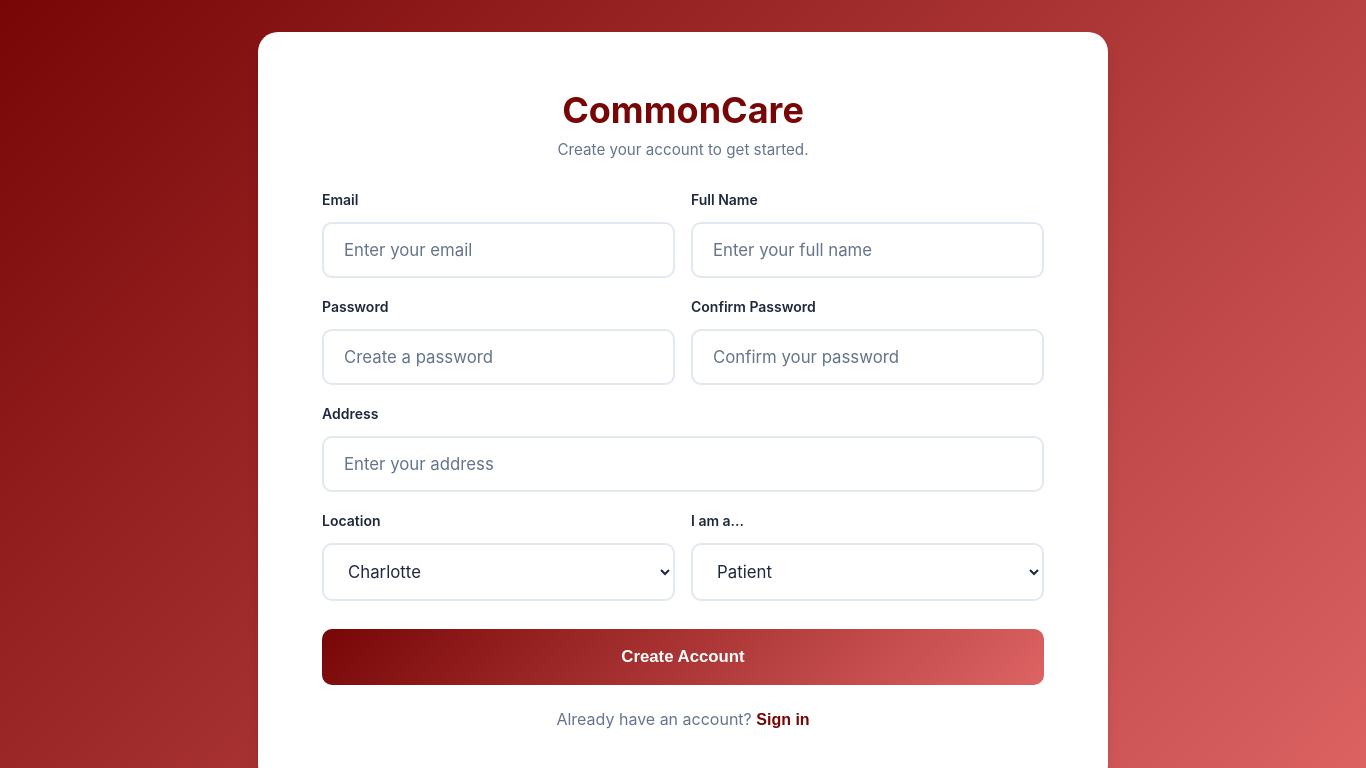
Test: Signup component › shows error when password is too short
Type "a@test.com" into the field labelled "Email" at (498, 250), box [322,222,675,278]
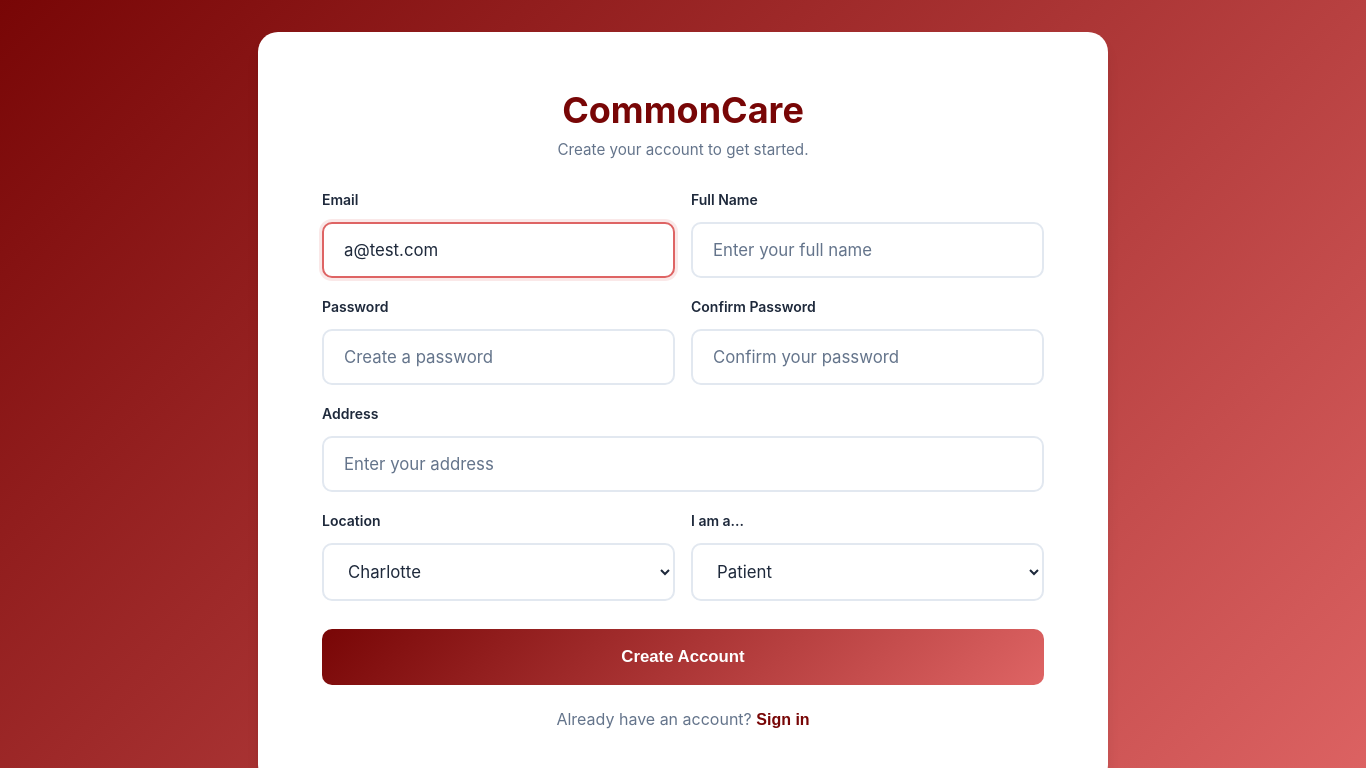
Type "A B" into the field labelled "Full Name" at (868, 250), box [691,222,1044,278]
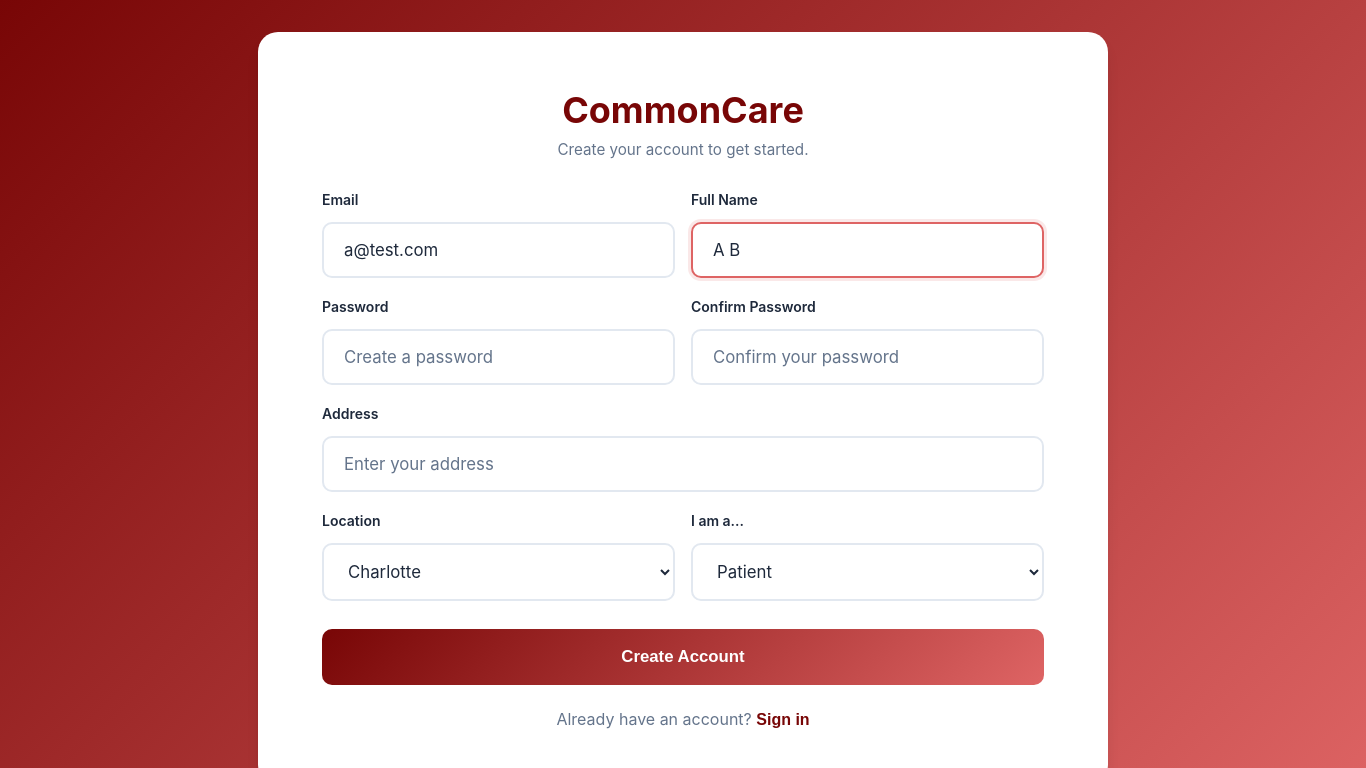
Type "abc" into the password field labelled "Password" at (498, 357), box [322,329,675,385]
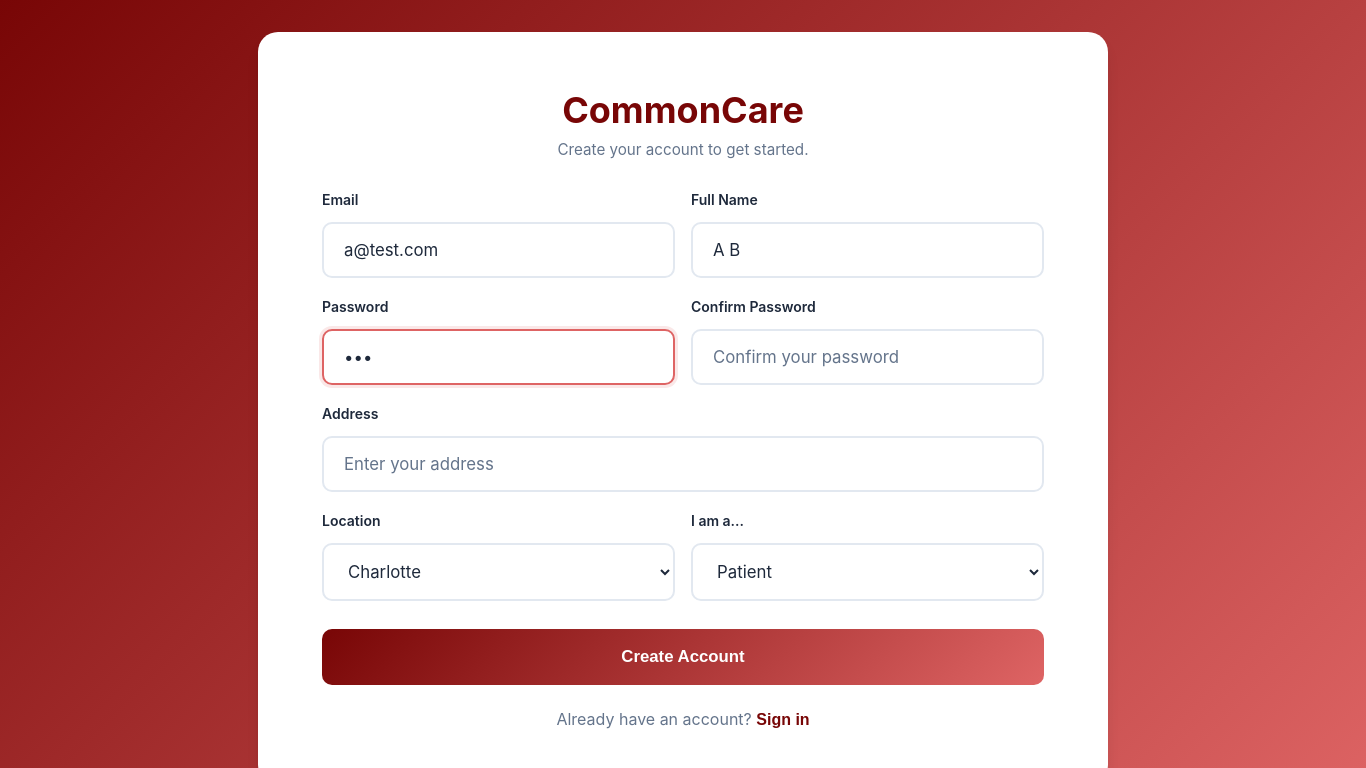
Type "abc" into the password field labelled "Confirm Password" at (868, 357), box [691,329,1044,385]
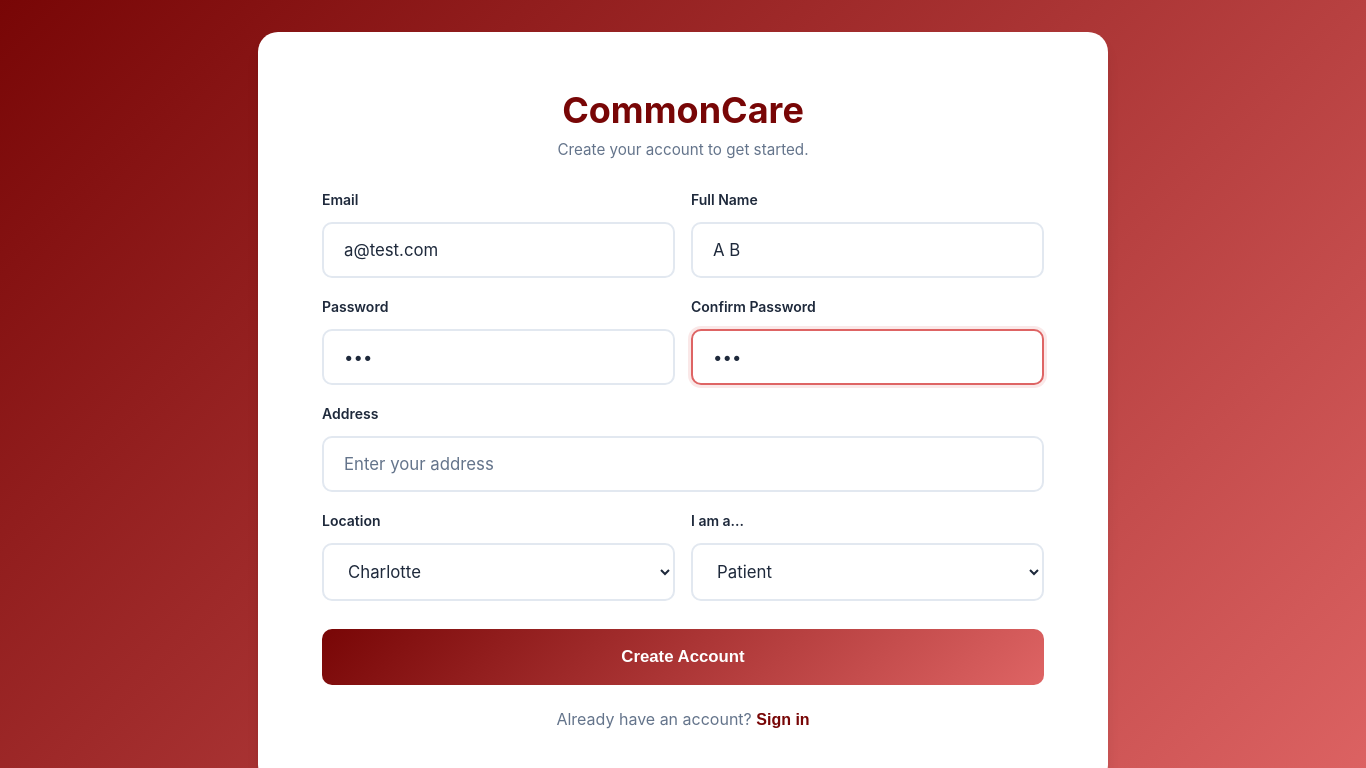
Click the button "Create Account" at (683, 657), box [322,629,1044,685]
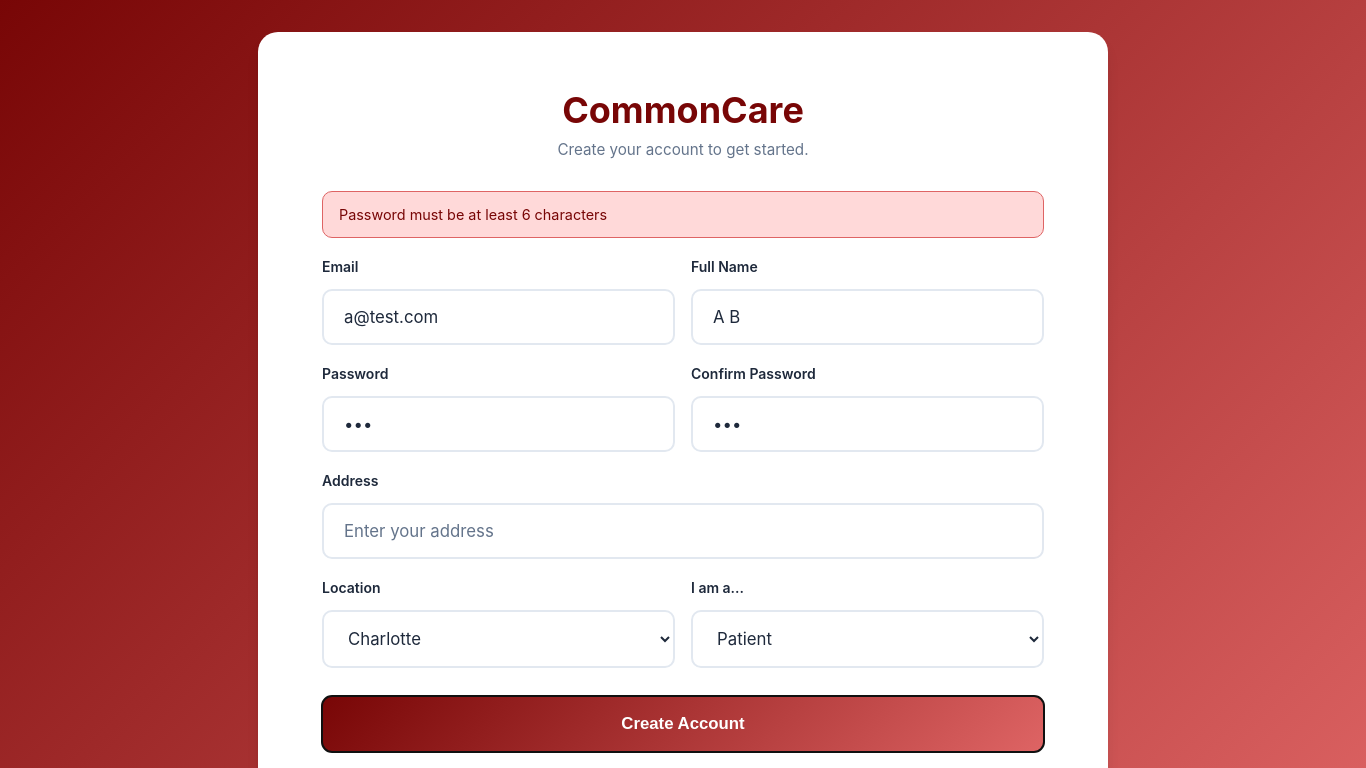
Now the text "Password must be at least 6 characters" is shown, box [322,191,1044,238]
